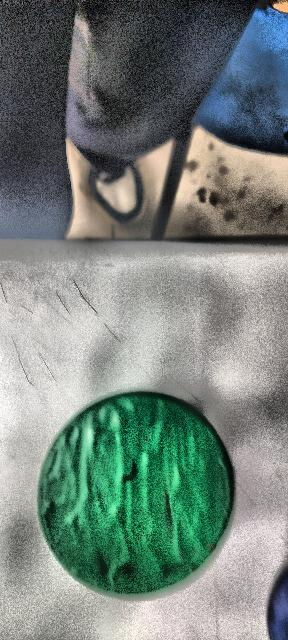blue: (37, 390, 234, 598)
